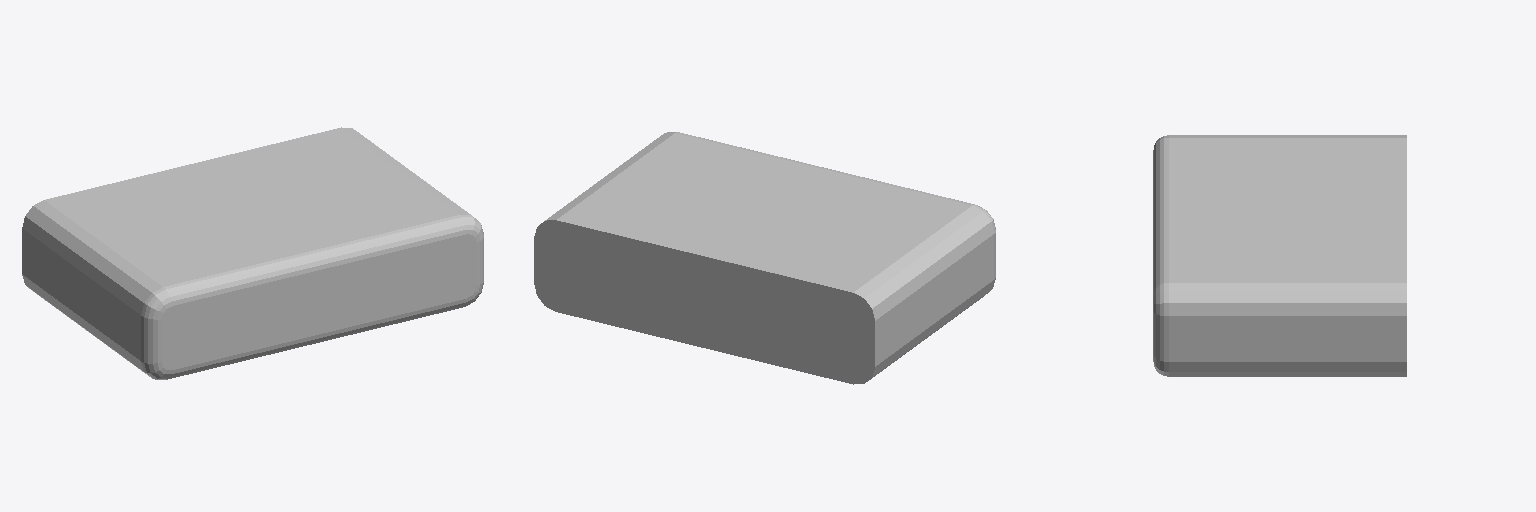
File: 2_Horizontal_Wall.obj
3 views of the same model, side by side, from view 1: azimuth 30°, elevation 25°; view 2: azimuth 150°, elevation 25°; view 3: azimuth 270°, elevation 25° (orthographic).
Parts seen in each view (by area): view 1: Horizontal_Wall.001_Plane.010; view 2: Horizontal_Wall.001_Plane.010; view 3: Horizontal_Wall.001_Plane.010.
Boxes of the visible parts, x1,y1,x2,y2 form: Horizontal_Wall.001_Plane.010: [22, 127, 483, 379]; Horizontal_Wall.001_Plane.010: [534, 132, 995, 384]; Horizontal_Wall.001_Plane.010: [1153, 135, 1406, 376].
Size of the model in its own units: 7.77 by 2 by 5.